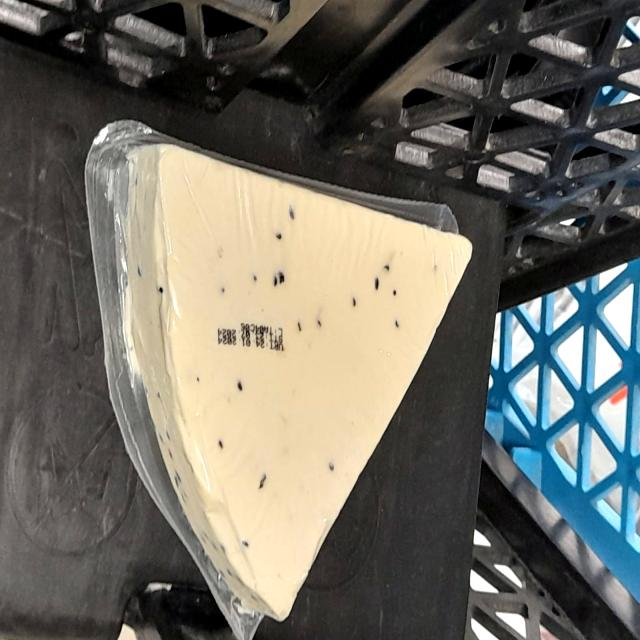cheese: (129, 130, 480, 616)
